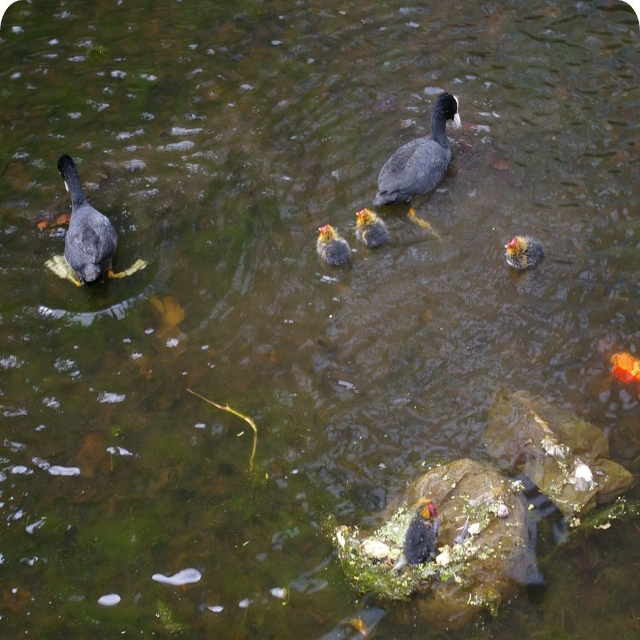Duck: (373, 80, 473, 211), (54, 153, 129, 295), (394, 491, 451, 578), (312, 226, 352, 276), (505, 229, 546, 274), (351, 202, 390, 242)
